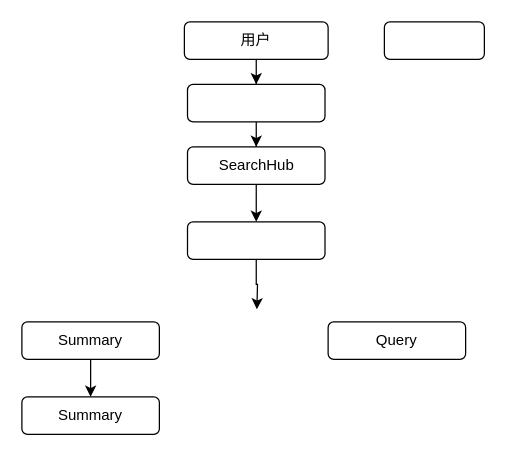
This 506x456 diagram has some shape labels left out. The centre of each missing label's shape, as x and y in pixels:
FrontWeb: the point at 255,102
QQ: the point at 433,40
WebCache: the point at 255,240
